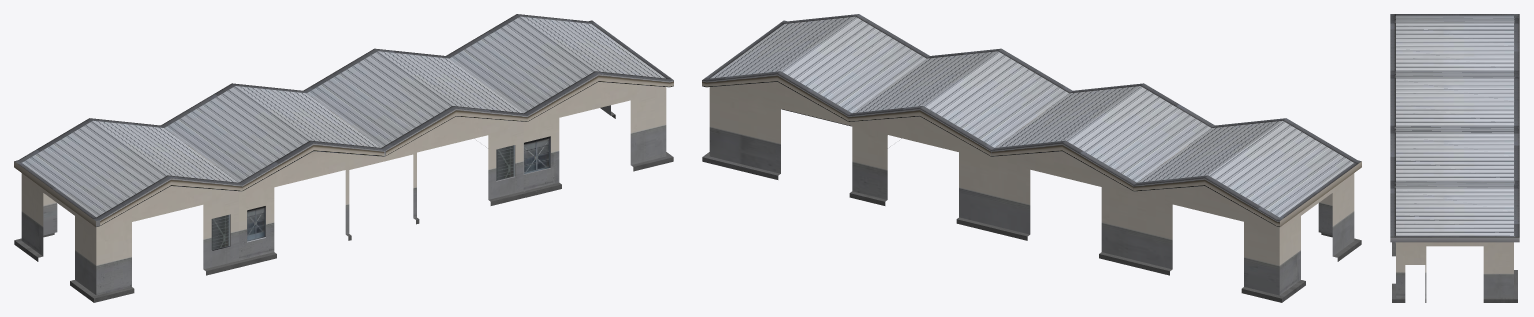
The model's file is SM_WarehouseDoorwayShell.glb.
The picture shows the model from 3 angles, left to right: view 1: azimuth 30°, elevation 25°; view 2: azimuth 150°, elevation 25°; view 3: azimuth 270°, elevation 25°; orthographic projection. The views are drawn at different scales.
Visible parts, largest first — view 1: SM_WarehouseDoorwayShell; view 2: SM_WarehouseDoorwayShell; view 3: SM_WarehouseDoorwayShell.
Boxes of the visible parts, x1,y1,x2,y2 form: SM_WarehouseDoorwayShell: [14, 14, 673, 302]; SM_WarehouseDoorwayShell: [702, 14, 1361, 302]; SM_WarehouseDoorwayShell: [1390, 14, 1519, 302].
Bounding box in the file's own units: 28 × 4.95 × 6.84.
1 material, 1 textured.
